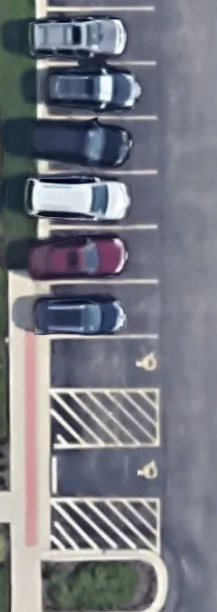Occupied: (41, 63, 156, 119), (41, 172, 157, 227), (41, 227, 157, 282), (41, 118, 157, 172), (42, 282, 158, 336), (41, 9, 155, 63)
Vacant: (41, 445, 159, 500), (41, 336, 157, 390)
